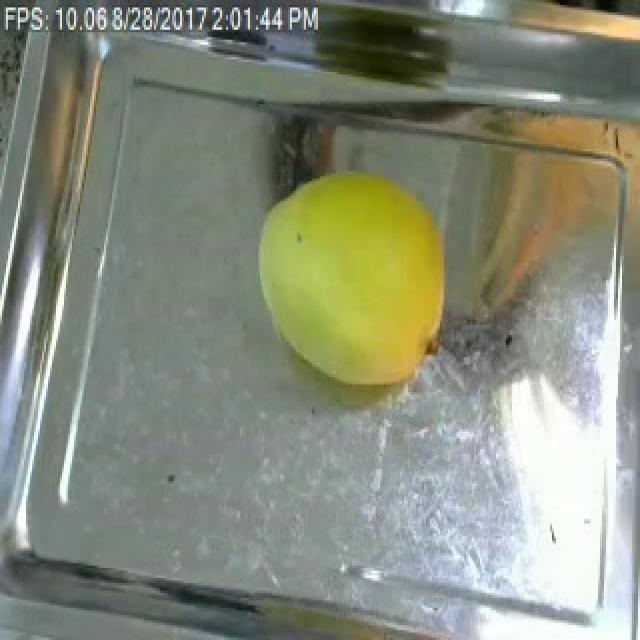fruit: (238, 149, 466, 407), (484, 0, 640, 67)
